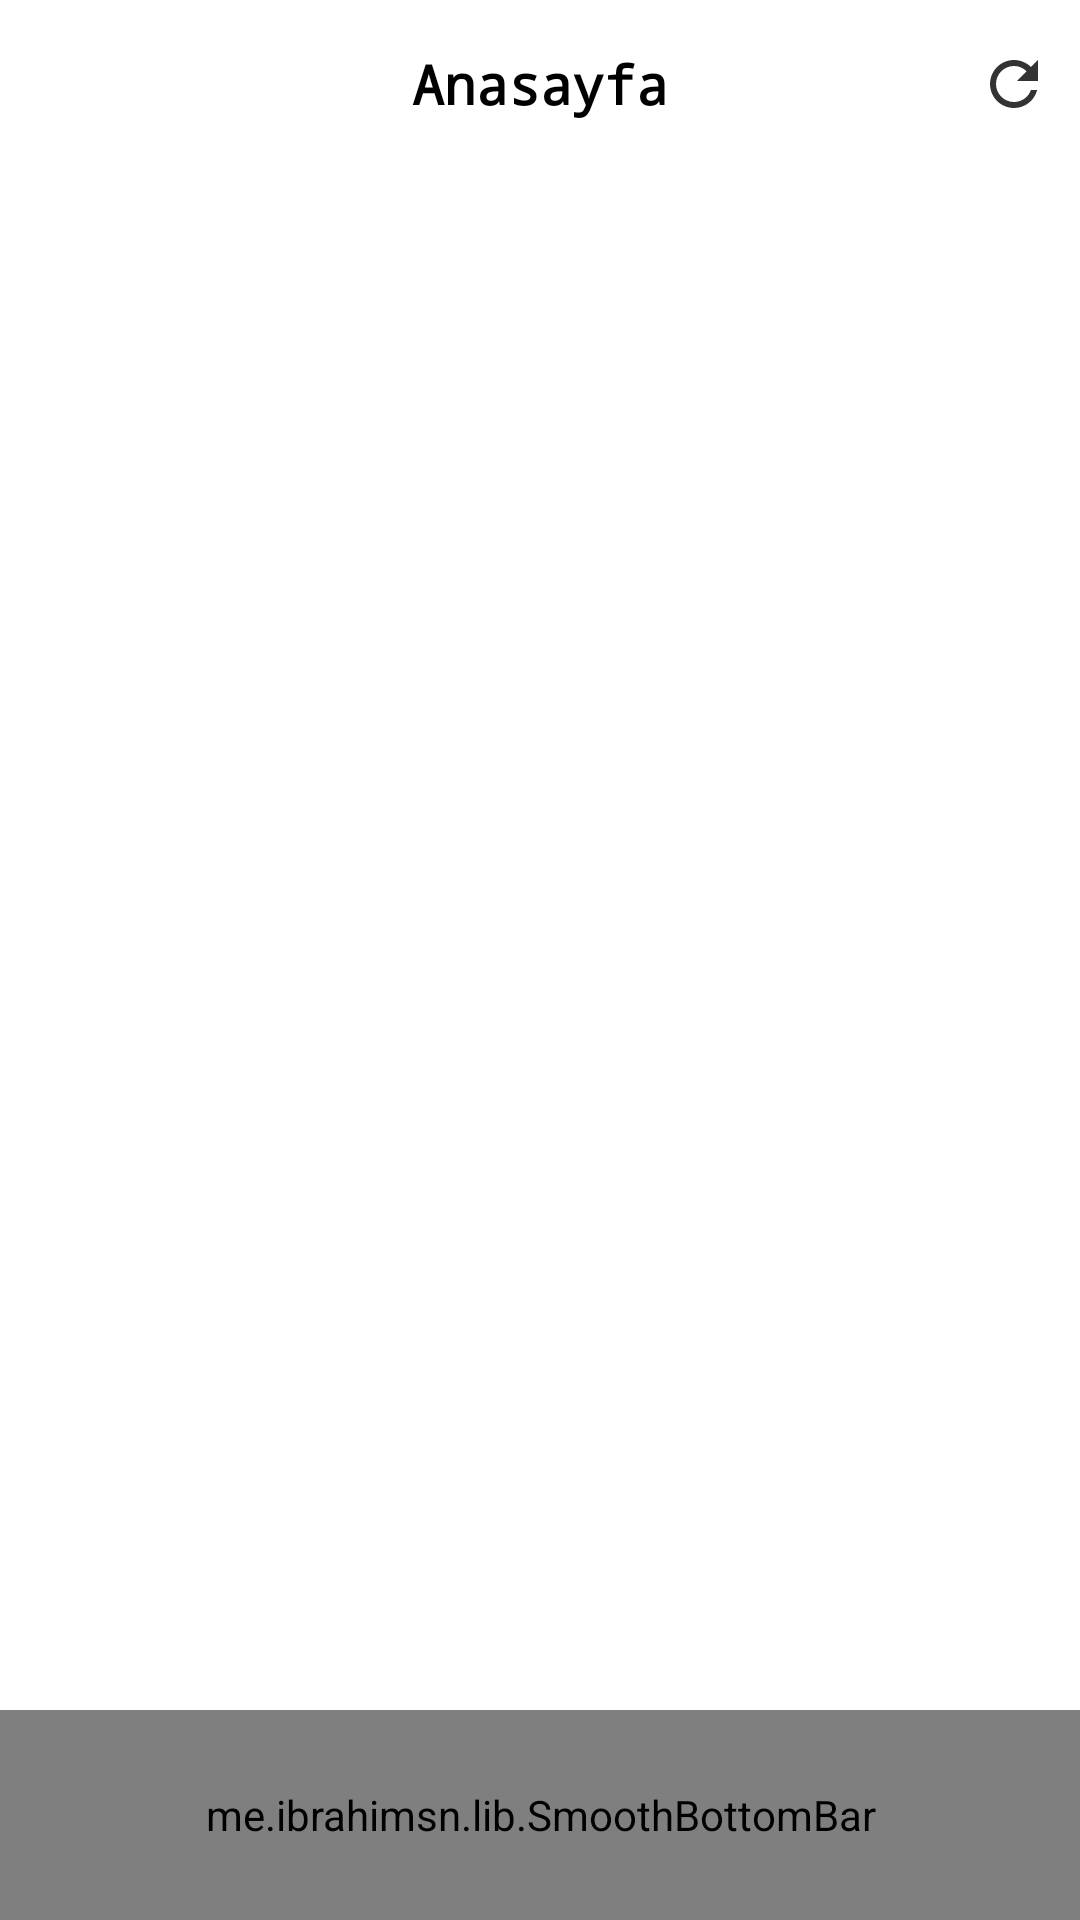

Point at icon controls on the screen. Image size 1080px×1920px, points as [x,y].
refresh: [1014,84]
